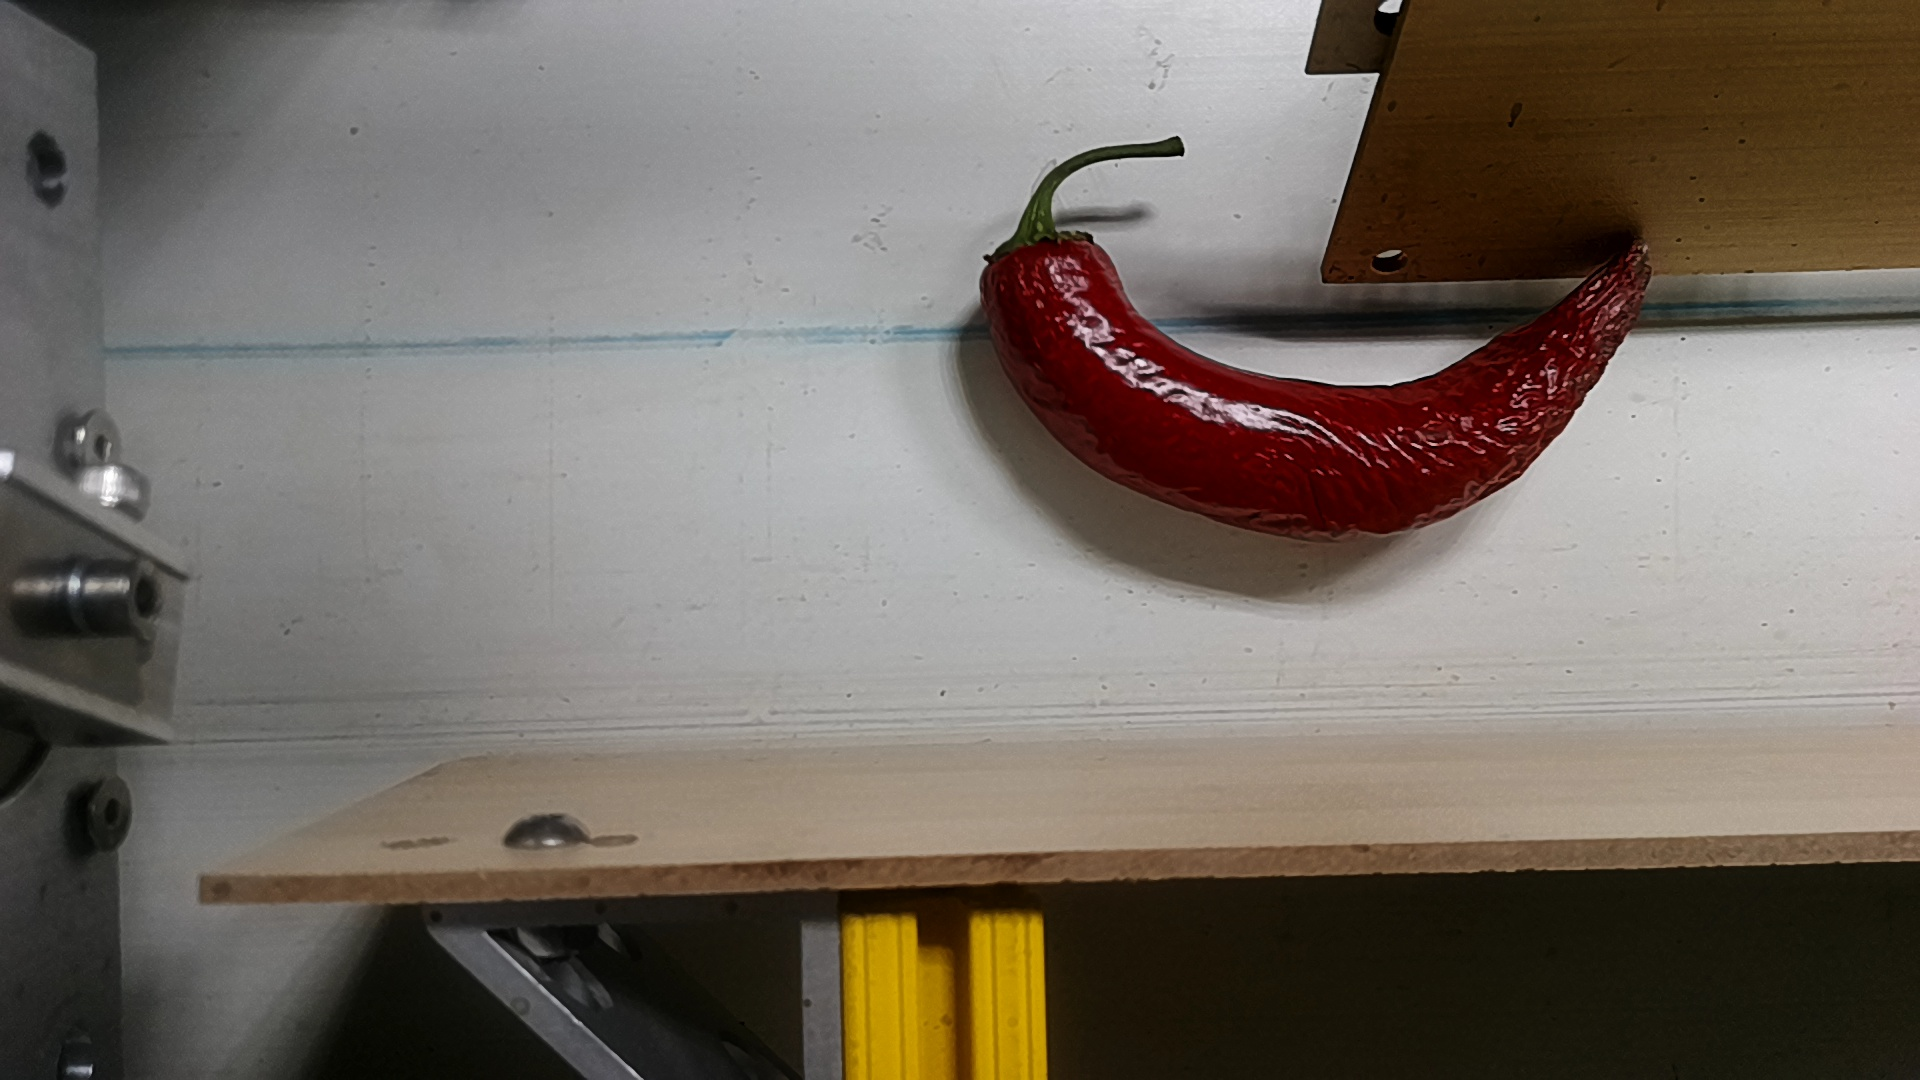Cut Point: (971, 189, 1122, 316)
